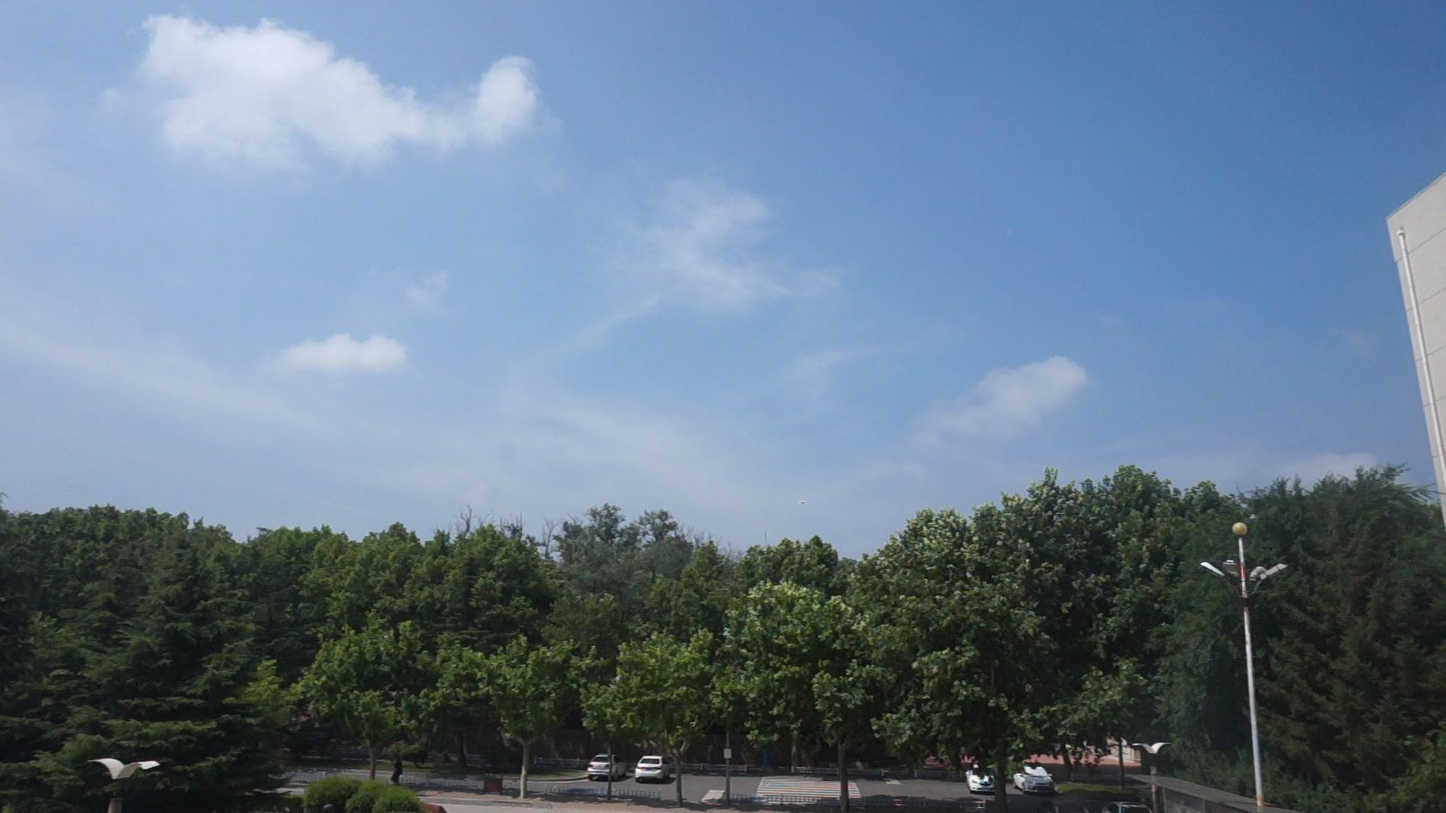UAV: (797, 501, 808, 506)
